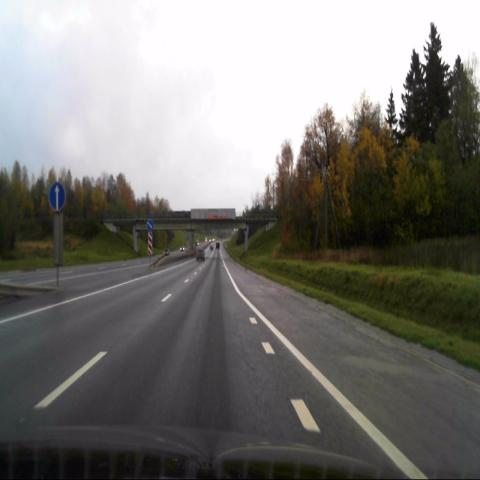4_1_1: (49, 182, 65, 209)
